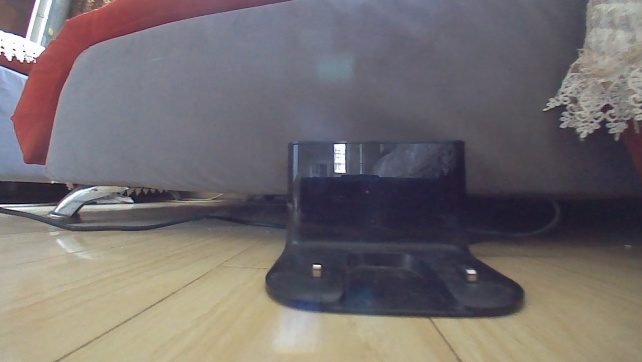charger: (261, 137, 527, 320)
sofa1: (5, 0, 641, 201)
wire: (0, 205, 286, 234), (471, 200, 563, 246)
